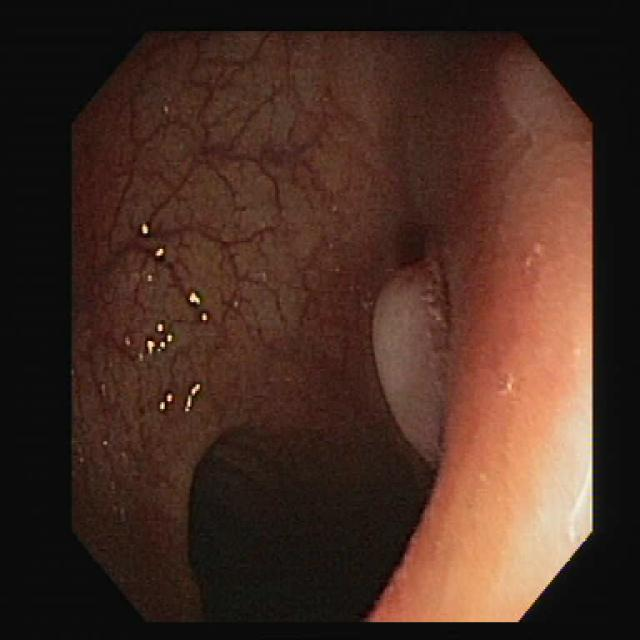tumor: (372, 251, 452, 464)
